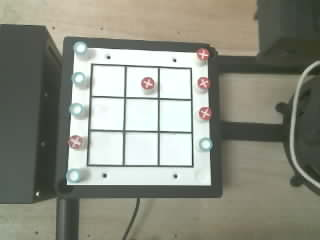blue circle: (69, 103, 84, 117), (71, 72, 85, 86), (73, 41, 87, 54), (66, 169, 80, 182), (199, 137, 212, 151)
board: (67, 42, 212, 185)
cells: (89, 132, 122, 164), (125, 133, 157, 165), (90, 98, 123, 129), (125, 99, 157, 130), (92, 65, 124, 96), (160, 134, 191, 165), (160, 100, 191, 131), (126, 67, 157, 97), (160, 68, 190, 98)
grid: (87, 64, 193, 167)
red cross: (68, 135, 82, 149), (196, 48, 209, 60), (141, 77, 154, 89), (199, 107, 212, 119), (198, 77, 210, 88)
